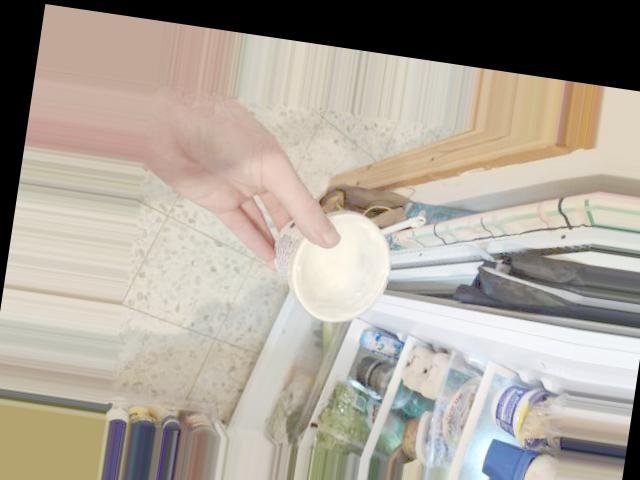cotage: (268, 197, 402, 309)
